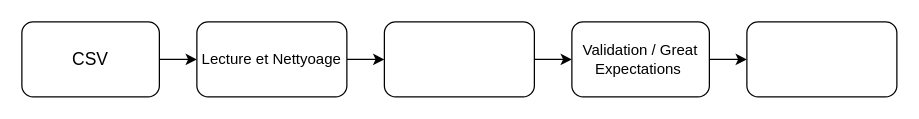
Some shapes in this 919 by 119 pixel diagram are drawn without their labels. Here are the shapes that lost their labels. From the top down, the centre of each, then its label:
pixel 458 59: Upsert PostgreSQL
pixel 821 59: Snapshots mensuels
